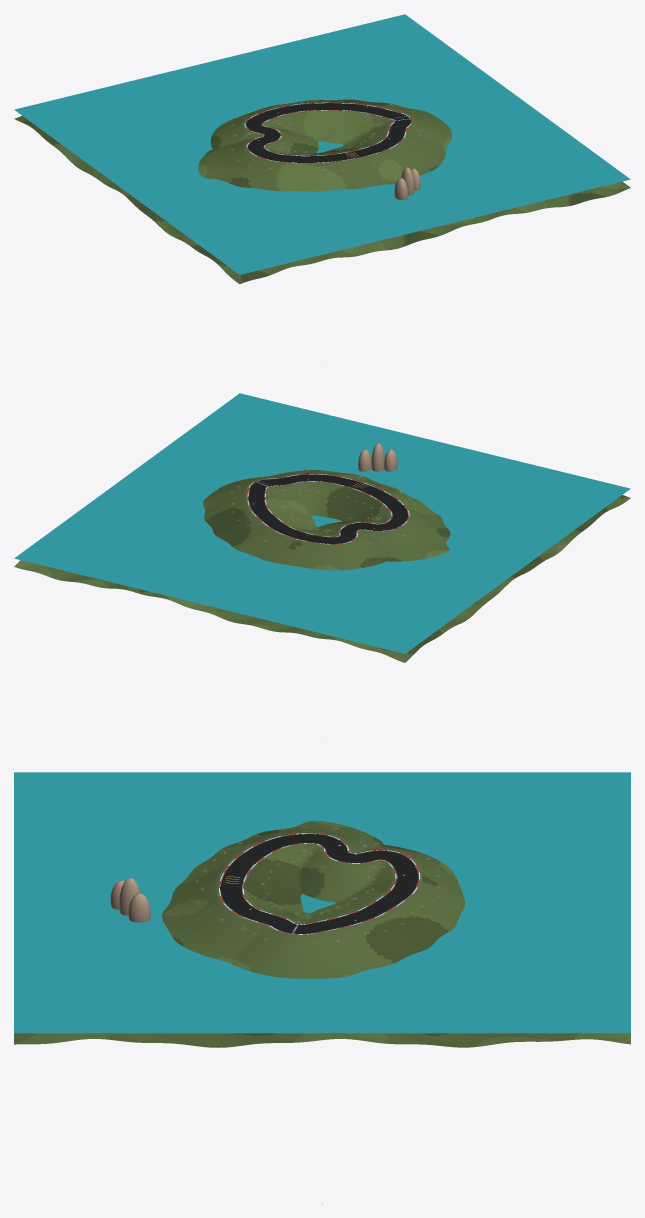
Rendered from coral_bay.glb.
3 views of the same model, one above another, from view 1: azimuth 30°, elevation 25°; view 2: azimuth 150°, elevation 25°; view 3: azimuth 270°, elevation 25° (orthographic). The views are drawn at different scales.
Parts seen in each view (by area): view 1: coral_bay - Blender Mountain Course - Combined Blender Geome; view 2: coral_bay - Blender Mountain Course - Combined Blender Geome; view 3: coral_bay - Blender Mountain Course - Combined Blender Geome.
Boxes of the visible parts, box(x1,y1,x2,y2) form: coral_bay - Blender Mountain Course - Combined Blender Geome: box(14, 14, 630, 284); coral_bay - Blender Mountain Course - Combined Blender Geome: box(14, 393, 630, 662); coral_bay - Blender Mountain Course - Combined Blender Geome: box(14, 772, 630, 1047).
Bounding box in the file's own units: 715 × 428 × 715.
Materials: 26 (5 with a texture image).
